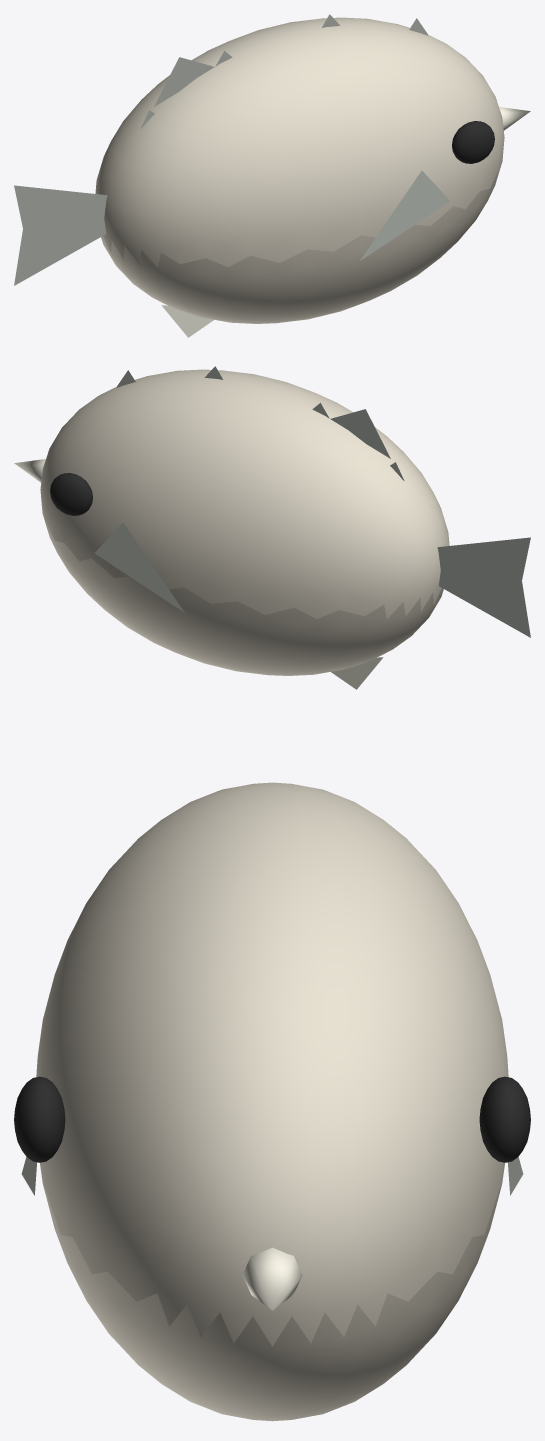
Rendered from fugu.glb.
3 renders of one model, top to bottom at view 1: azimuth 30°, elevation 25°; view 2: azimuth 150°, elevation 25°; view 3: azimuth 270°, elevation 25°, orthographic. The views are drawn at different scales.
Visible parts, largest first — view 1: Body_Back, Body_Belly, Tail_Fin, Pectoral_L, Eye_L, Dorsal_Fin, Ventral_Fin, Upper_Spines, Pointed_Mouth; view 2: Body_Back, Body_Belly, Tail_Fin, Pectoral_R, Eye_R, Dorsal_Fin, Ventral_Fin, Upper_Spines, Pointed_Mouth; view 3: Body_Back, Body_Belly, Eye_L, Eye_R, Pointed_Mouth.
Boxes of the visible parts, bbox=[...] form: Body_Back: bbox=[95, 17, 504, 266]; Body_Belly: bbox=[102, 171, 498, 323]; Tail_Fin: bbox=[14, 185, 107, 285]; Pectoral_L: bbox=[360, 170, 450, 260]; Eye_L: bbox=[452, 121, 494, 163]; Dorsal_Fin: bbox=[154, 57, 214, 106]; Ventral_Fin: bbox=[161, 305, 213, 337]; Upper_Spines: bbox=[140, 14, 428, 128]; Pointed_Mouth: bbox=[499, 107, 530, 130]; Body_Back: bbox=[40, 369, 449, 618]; Body_Belly: bbox=[46, 523, 442, 675]; Tail_Fin: bbox=[437, 537, 530, 637]; Pectoral_R: bbox=[94, 522, 184, 612]; Eye_R: bbox=[50, 473, 92, 515]; Dorsal_Fin: bbox=[330, 409, 390, 458]; Ventral_Fin: bbox=[331, 657, 383, 689]; Upper_Spines: bbox=[116, 366, 404, 480]; Pointed_Mouth: bbox=[14, 459, 45, 482]; Body_Back: bbox=[36, 782, 508, 1346]; Body_Belly: bbox=[43, 1185, 501, 1421]; Eye_L: bbox=[14, 1076, 65, 1162]; Eye_R: bbox=[479, 1076, 530, 1162]; Pointed_Mouth: bbox=[242, 1247, 302, 1310].
Bounding box in the file's own units: 3.44 × 1.87 × 1.57.
